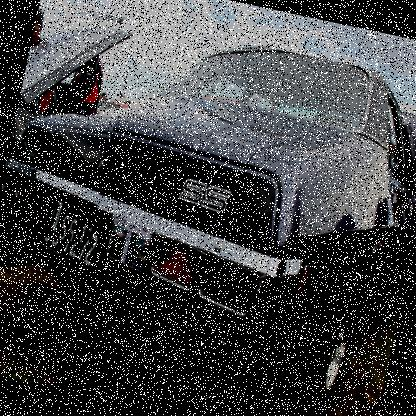Car: (0, 0, 415, 415), (0, 5, 136, 247), (95, 95, 130, 119)
